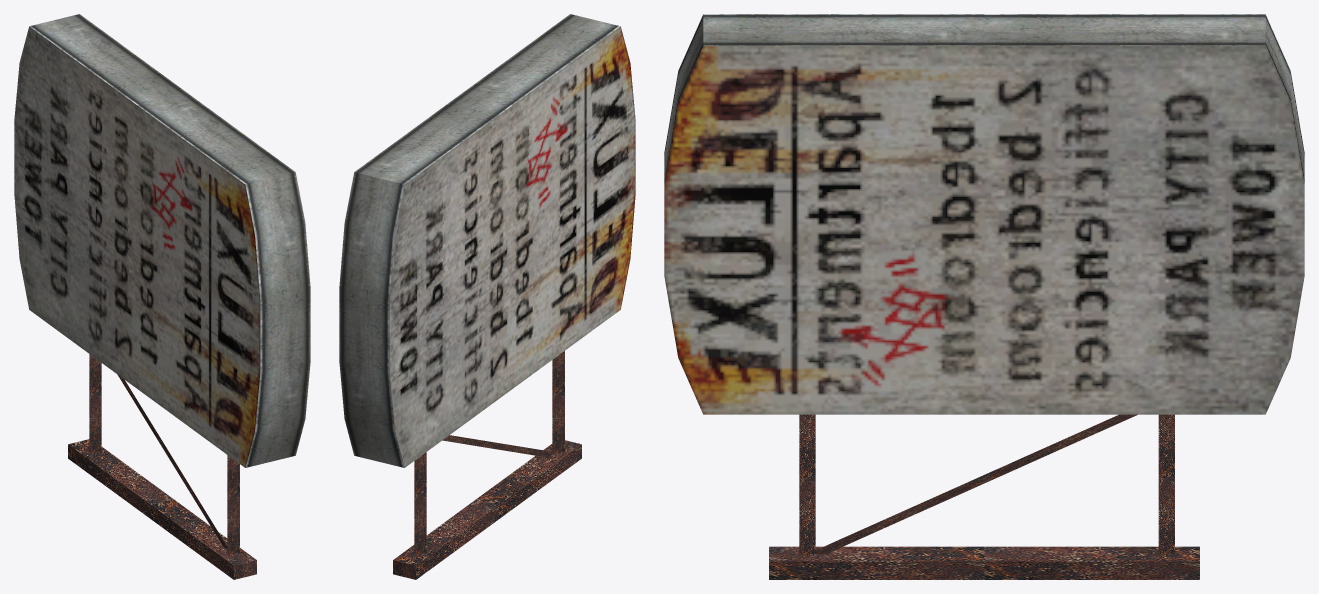
The model's file is apt_deluxe_slum.fbx.
3 renders of one model, left to right at view 1: azimuth 30°, elevation 25°; view 2: azimuth 150°, elevation 25°; view 3: azimuth 270°, elevation 25°, orthographic. The views are drawn at different scales.
Parts seen in each view (by area): view 1: mesh_0; view 2: mesh_0; view 3: mesh_0.
Boxes of the visible parts, bbox=[...] form: mesh_0: bbox=[14, 14, 310, 579]; mesh_0: bbox=[339, 14, 635, 579]; mesh_0: bbox=[664, 14, 1304, 579].
Bounding box in the file's own units: 21.08 × 167 × 178.
1 material, 1 textured.
